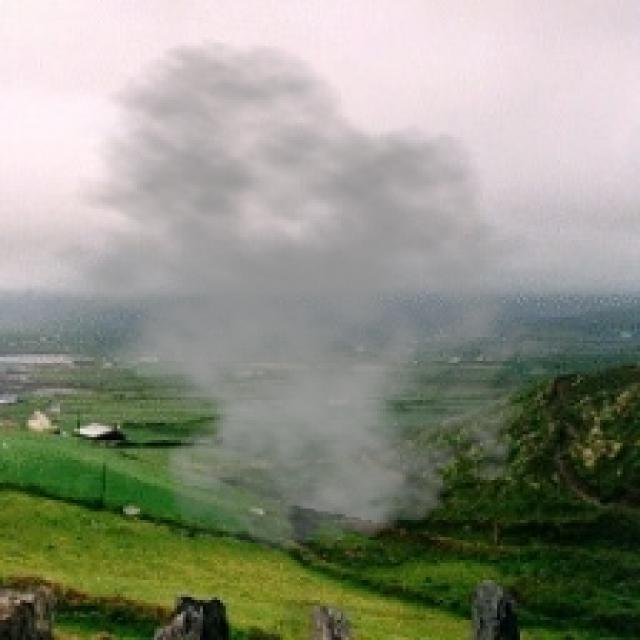smoke: (29, 37, 574, 563)
